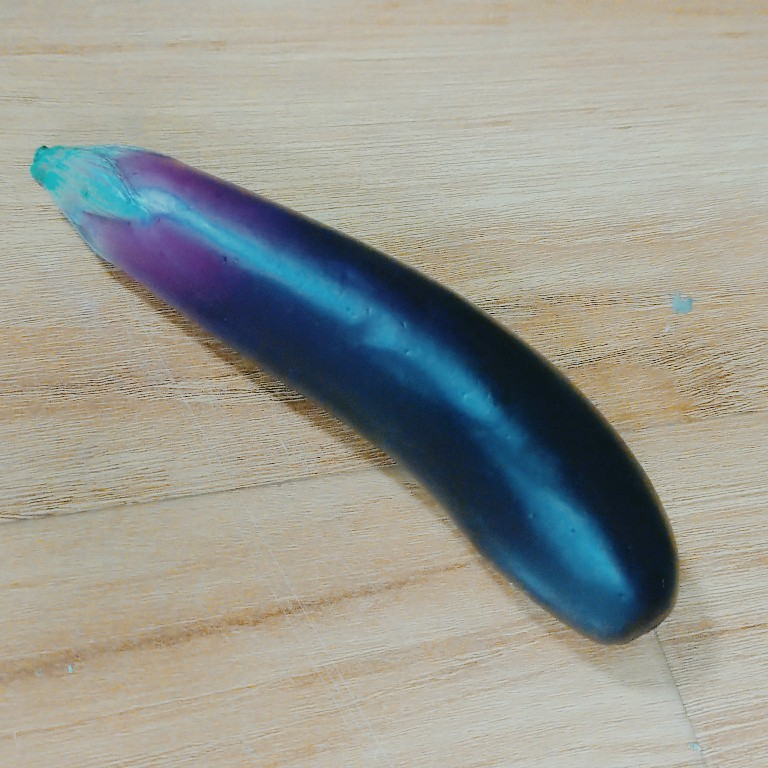fruit_eggplant: (24, 142, 683, 648)
